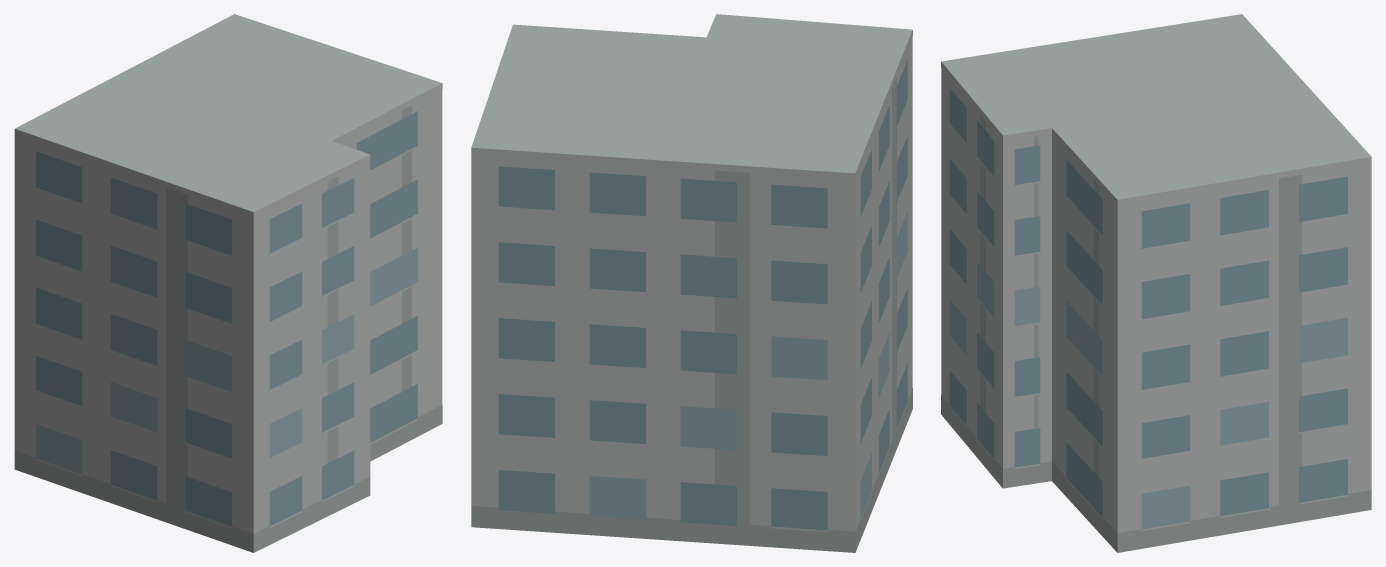
The model's file is survey-upis-32846403.glb.
3 renders of one model, left to right at view 1: azimuth 30°, elevation 25°; view 2: azimuth 150°, elevation 25°; view 3: azimuth 270°, elevation 25°, orthographic. The views are drawn at different scales.
Parts seen in each view (by area): view 1: survey-upis-32846403.tmp; view 2: survey-upis-32846403.tmp; view 3: survey-upis-32846403.tmp.
Boxes of the visible parts, <box> form: survey-upis-32846403.tmp: <box>14,14,442,552</box>; survey-upis-32846403.tmp: <box>471,14,912,552</box>; survey-upis-32846403.tmp: <box>941,14,1371,552</box>.
Bounding box in the file's own units: 15.93 × 14.1 × 15.59.
